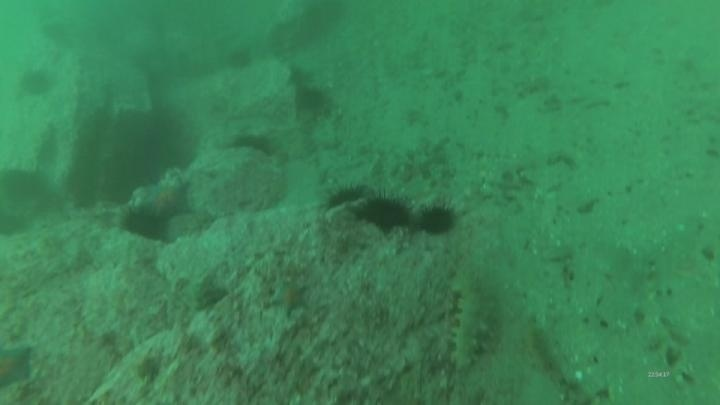echinus: (355, 192, 412, 233), (1, 164, 49, 206), (120, 205, 170, 243), (416, 202, 458, 238), (322, 182, 369, 213), (229, 130, 278, 158), (18, 66, 56, 99), (293, 84, 331, 116), (225, 45, 255, 73)
holothurian: (446, 267, 494, 373)
starfish: (140, 178, 195, 223), (0, 341, 37, 392), (268, 277, 311, 316)
